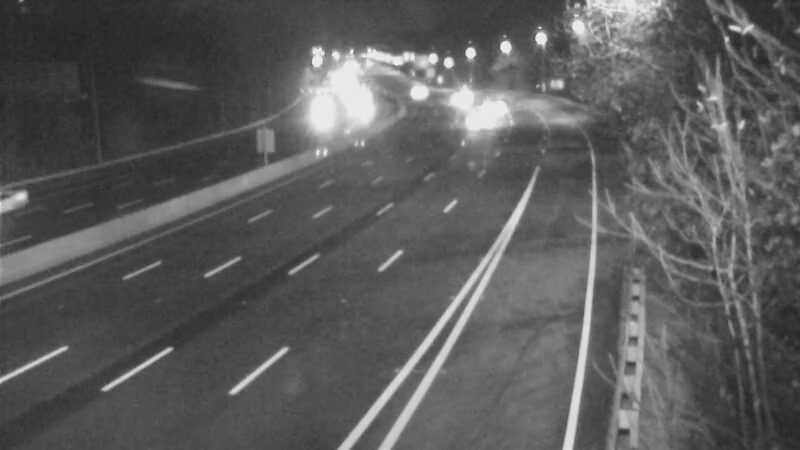vehicle: (1, 165, 65, 245), (392, 67, 442, 117), (427, 72, 477, 122), (473, 85, 523, 135), (457, 96, 507, 146), (293, 86, 343, 136), (333, 88, 383, 138)
